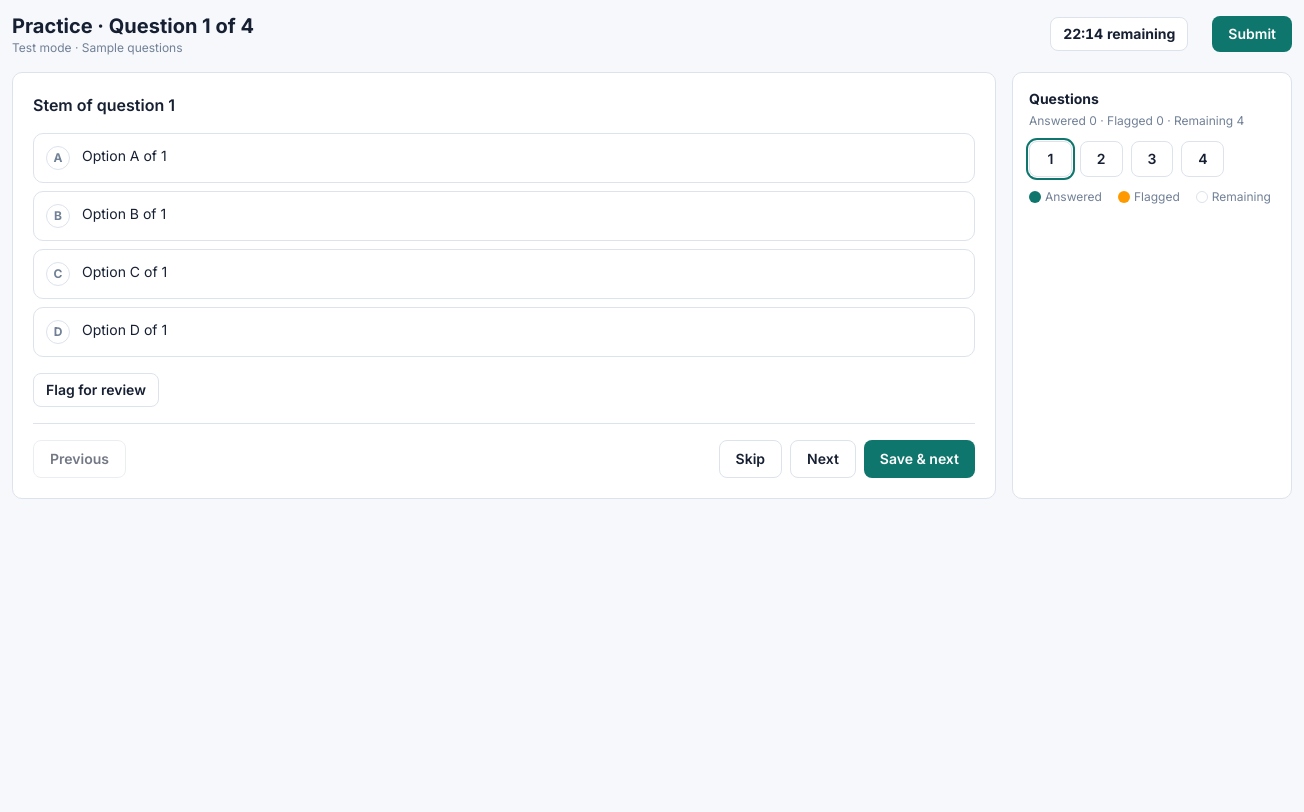
Scenario: Workspace answering and autosave › Save & next saves now and moves on; Skip and Previous move without answering
The width and height of the screenshot is (1304, 812).
Click the radio button labelled "D Option D of 1".
click(125, 330)  # box [33,307,975,357]
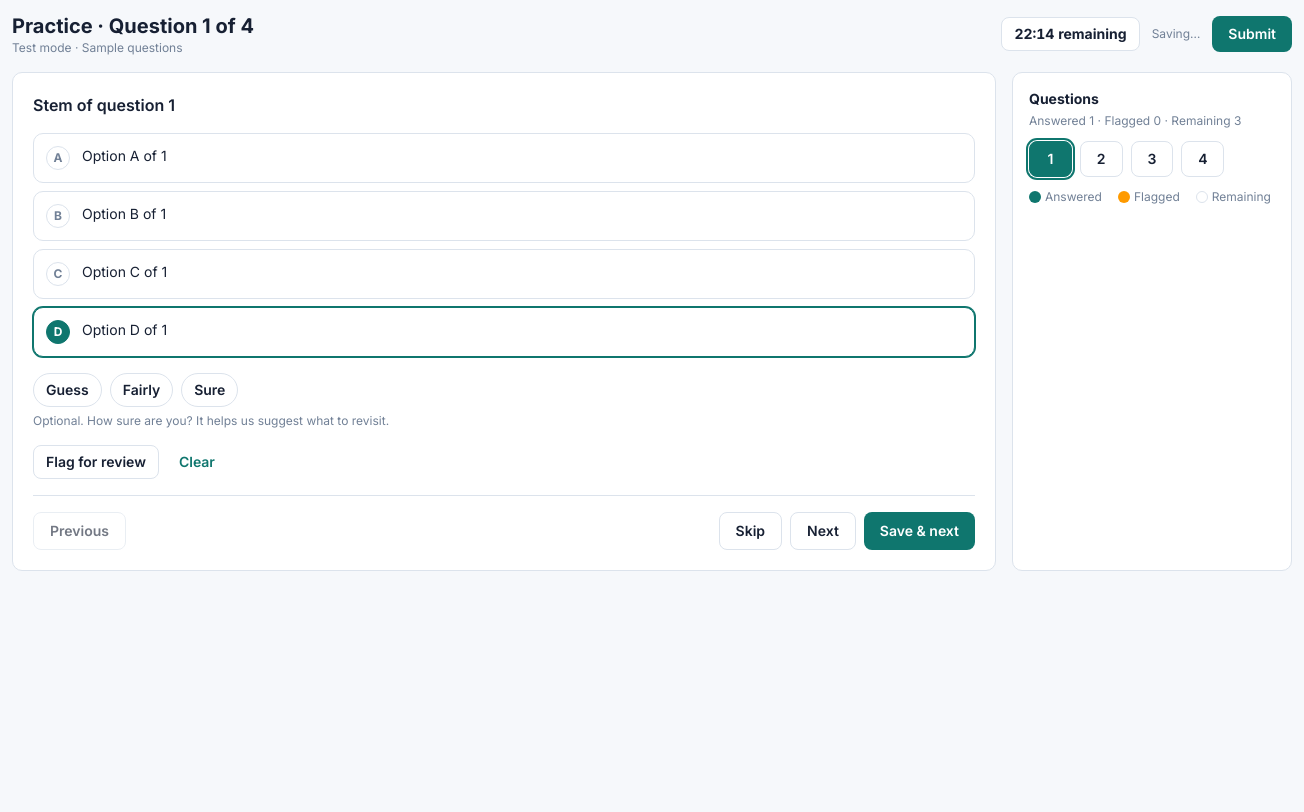
Click the button "Save & next".
click(919, 531)  # box [864,512,975,550]
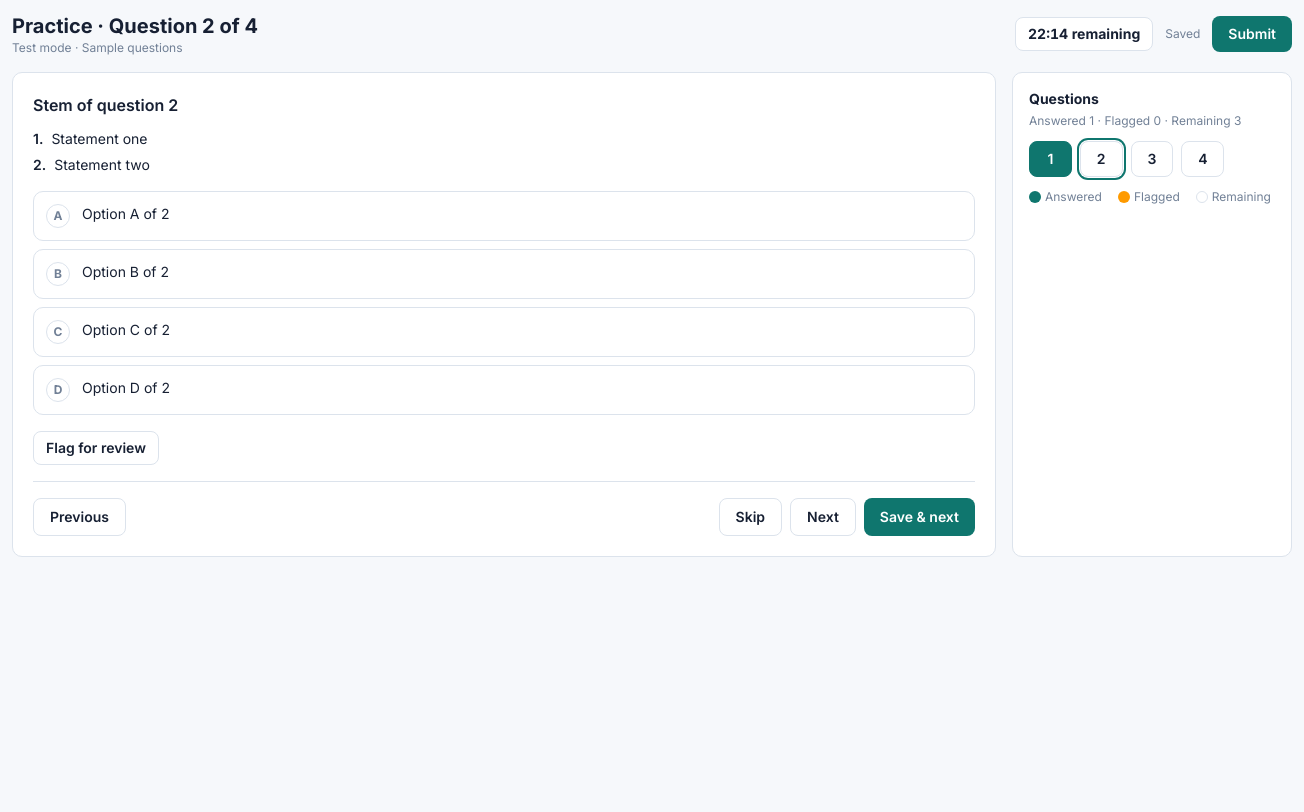
Expected: the heading "Practice · Question 2 of 4" is shown, [12,12,258,40]
Click the button "Skip".
click(750, 517)  # box [719,498,782,536]
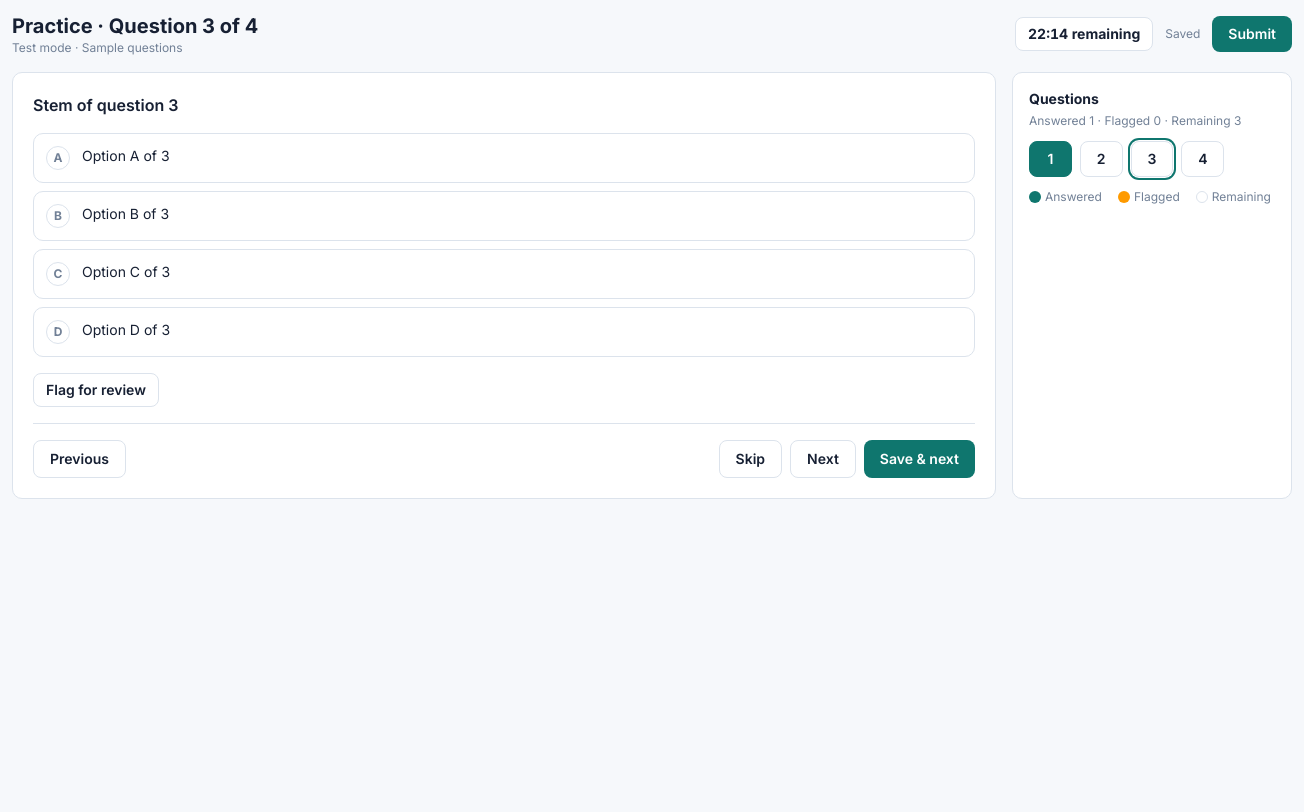
Expected: the heading "Practice · Question 3 of 4" is shown, [12,12,258,40]
Click the button "Previous".
click(80, 459)  # box [33,440,126,478]
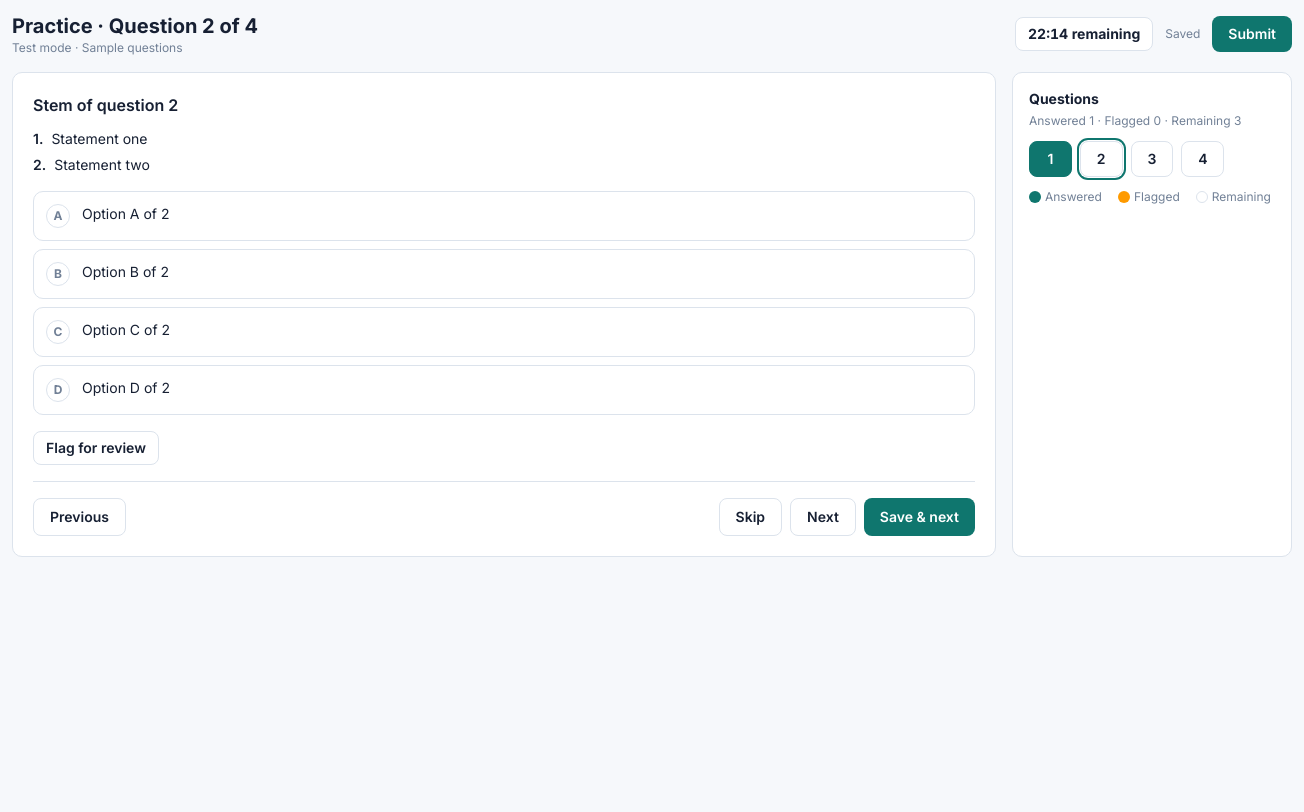
Expected: the heading "Practice · Question 2 of 4" is shown, [12,12,258,40]
